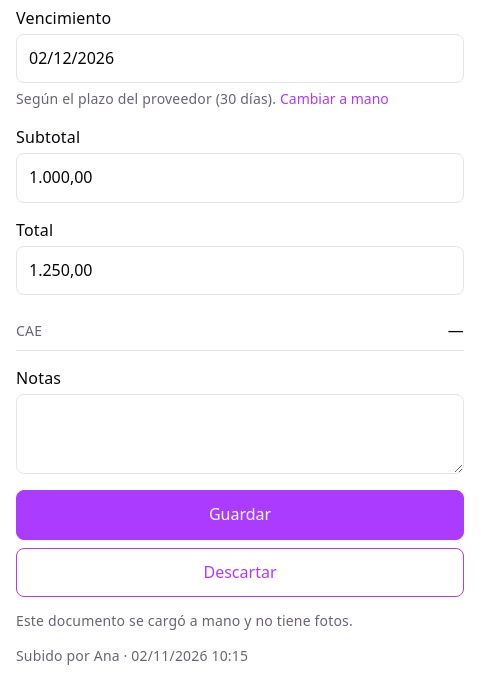
Test: Documento › displays open acceptable issue cards with consistency summary and duplicate link, disables accept while dirty, and transitions to Revisado on accept
(page scrolled)
Note: Editing a field disables accept buttons until saved or undone
Type "cambio sin guardar" into the text box labelled "Notas". click: (240, 434)
box: [16, 394, 464, 474]
(page scrolled)
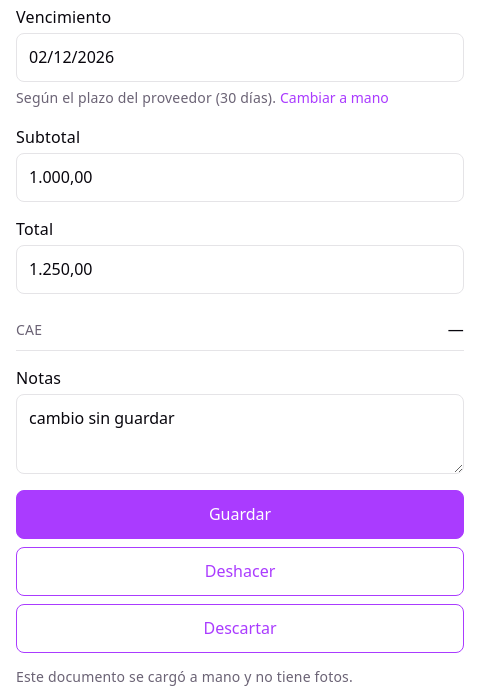
Click the button "Deshacer". click: (240, 572)
box: [16, 547, 464, 596]
(page scrolled)
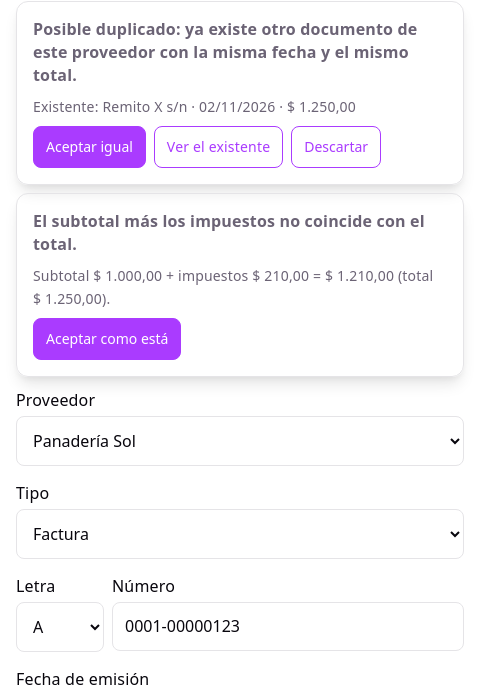
Expected: the button "Aceptar como está" is enabled
Click the button "Aceptar como está". click: (107, 339)
box: [33, 318, 181, 360]
(page scrolled)
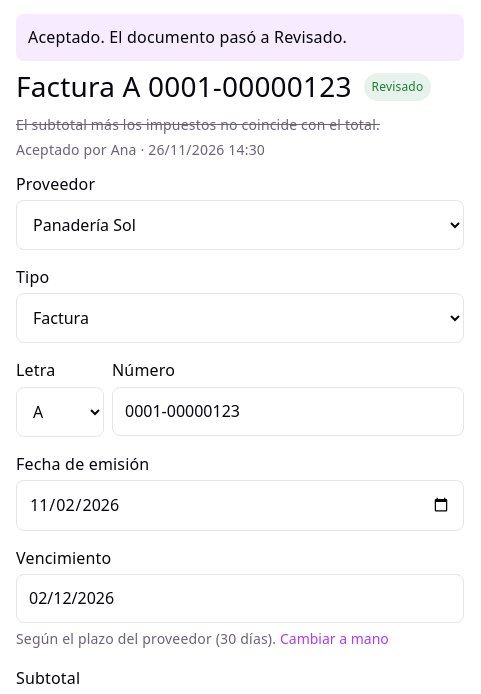
Expected: the text "Aceptado. El documento pasó a Revisado." is shown, [16, 14, 464, 61]
Expected: the text "Aceptado por Ana · 26/11/2026 14:30" is shown, [16, 140, 265, 159]
